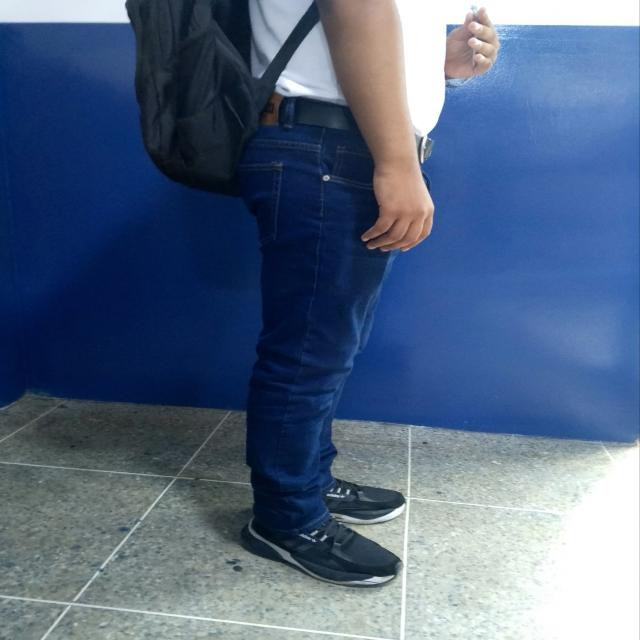pantalon_oscuro: (237, 125, 432, 536)
